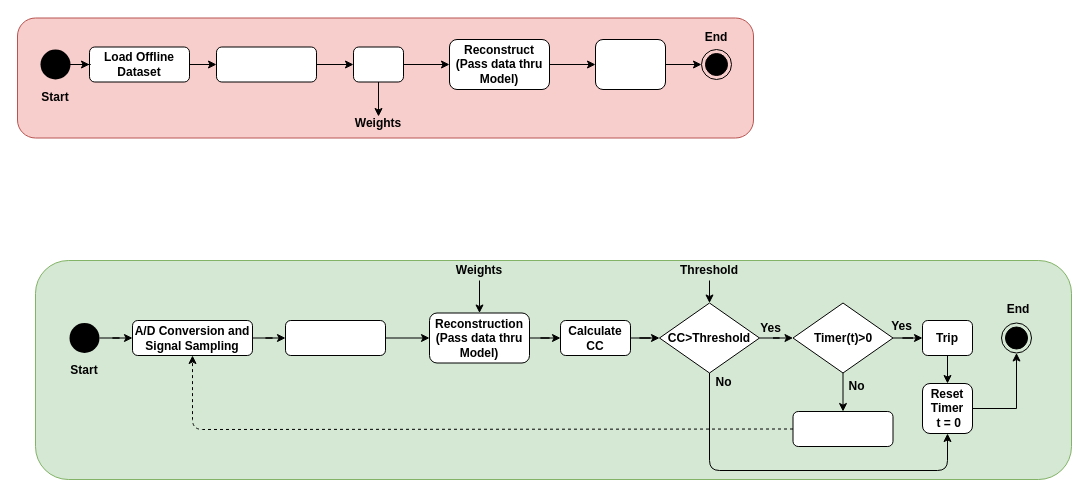
This 1089x497 diagram has some shape labels left out. Each missing label, with the box of its shape:
Data Preprocessing: (284, 320, 386, 356)
Determine CC Threshold: (594, 38, 666, 90)
Preprocess Data: (216, 46, 316, 82)
Start Timer t = t + dt: (792, 410, 893, 446)
Train CNN: (352, 46, 404, 82)
